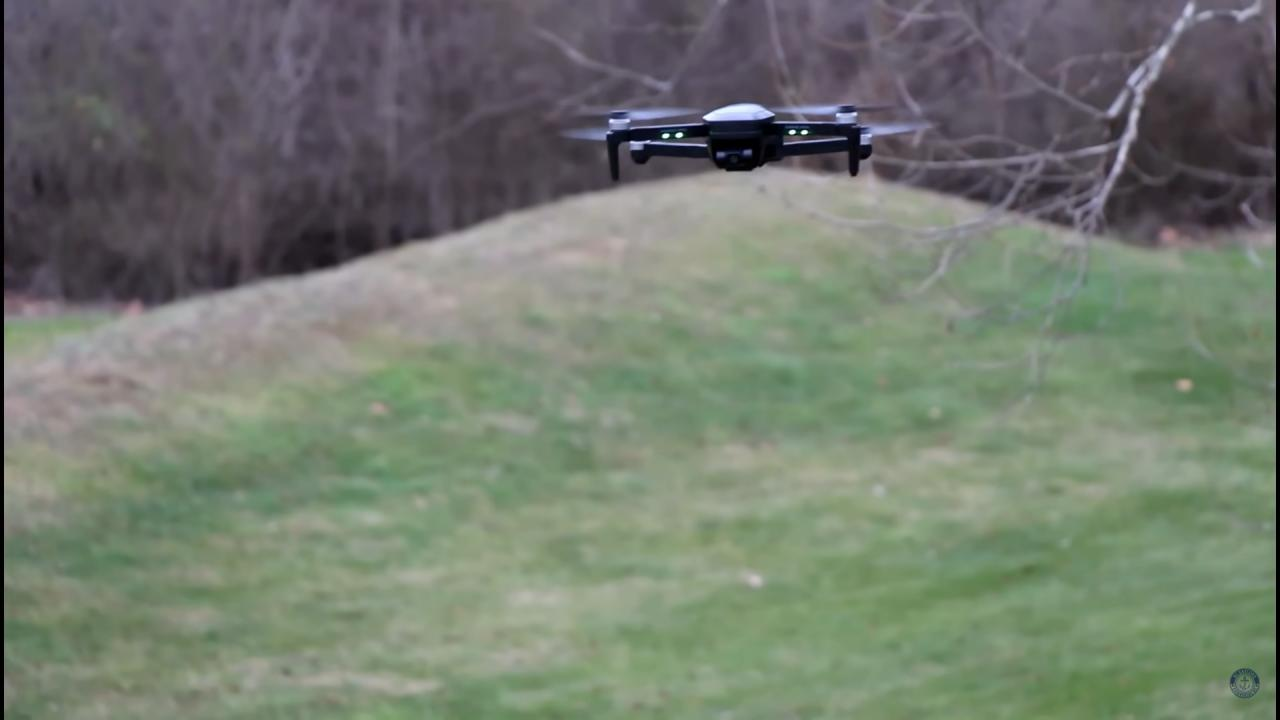Drone: (543, 95, 947, 188)
